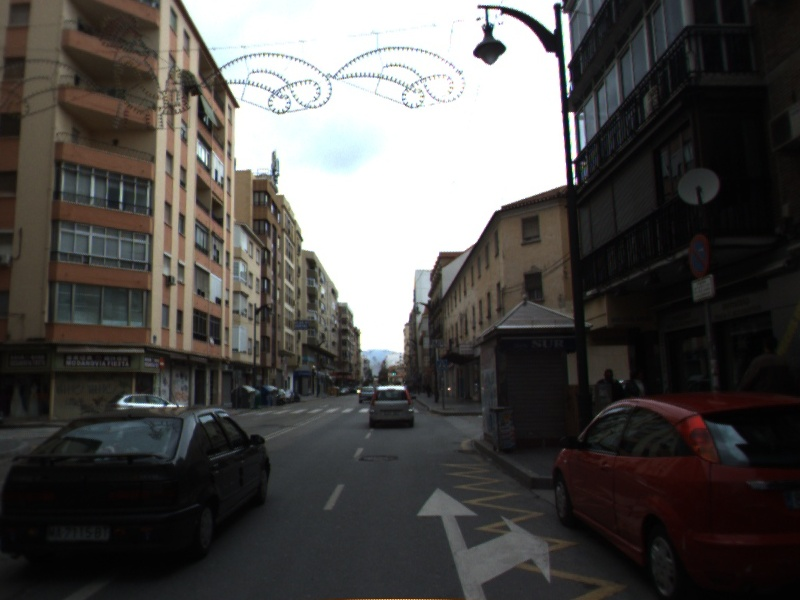STRAIGHT_RIGHT: (414, 483, 553, 600)
